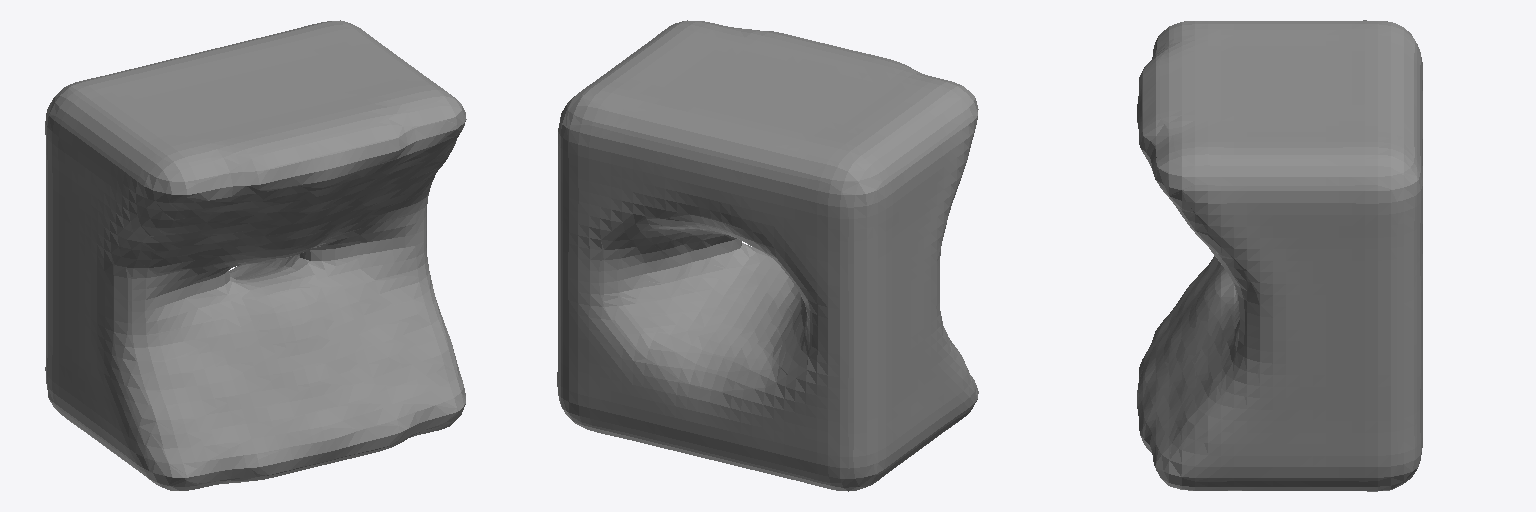
The robot description file, URDF, robot "cube.urdf":
<?xml version="0.0" ?> 
<robot name="cube.urdf"> 
<link name="legobrick"> 
<contact> 
<lateral_friction value="5.0"/> 
<rolling_friction value="0.0"/> 
<contact_cfm value="0.0"/> 
<contact_erp value="1.0"/> 
</contact> 
<inertial> 
<origin rpy="0 0 0" xyz="0.0 0.0 0.0"/> 
<mass value=".01"/> 
<inertia ixx="1" ixy="0" ixz="0" iyy="1" iyz="0" izz="1"/> 
</inertial> 
<visual> 
<origin rpy="1.570796 0 0" xyz="-0.025854144322484496 0.017525989614337177 -0.02584808008017051"/> 
<geometry> 
<mesh filename="X05_3.obj" scale="0.0005608314987628665 0.0005608314987628665 0.0005608314987628665"/> 
</geometry> 
<material name="yellow"> 
<color rgba="0.6 0.6 0.6 1"/> 
</material> 
</visual> 
<collision> 
<origin rpy="1.570796 0 0" xyz="-0.025854144322484496 0.017525989614337177 -0.02584808008017051"/> 
<geometry> 
<mesh filename="X05_3.obj" scale="0.0005608314987628665 0.0005608314987628665 0.0005608314987628665"/> 
</geometry> 
</collision> 
</link> 
</robot>

--- What the picture shows (computed from the rendered views, not written in the file) ---
The picture shows the robot from 3 angles, left to right: view 1: azimuth 30°, elevation 25°; view 2: azimuth 150°, elevation 25°; view 3: azimuth 270°, elevation 25°; orthographic projection.
Robot: cube.urdf — 1 links, 0 joints (none); root link legobrick; default pose: all joints at 0.
Visible links, largest first — view 1: legobrick; view 2: legobrick; view 3: legobrick.
Boxes of the visible links, x1,y1,x2,y2 form: legobrick: (45, 20, 466, 490); legobrick: (557, 20, 978, 491); legobrick: (1137, 20, 1422, 491).
Bounding box of the posed robot: 0.0561 × 0.0427 × 0.056 m (x, y, z).
1 mesh visuals loaded from 1 distinct referenced files (1 OBJ).
